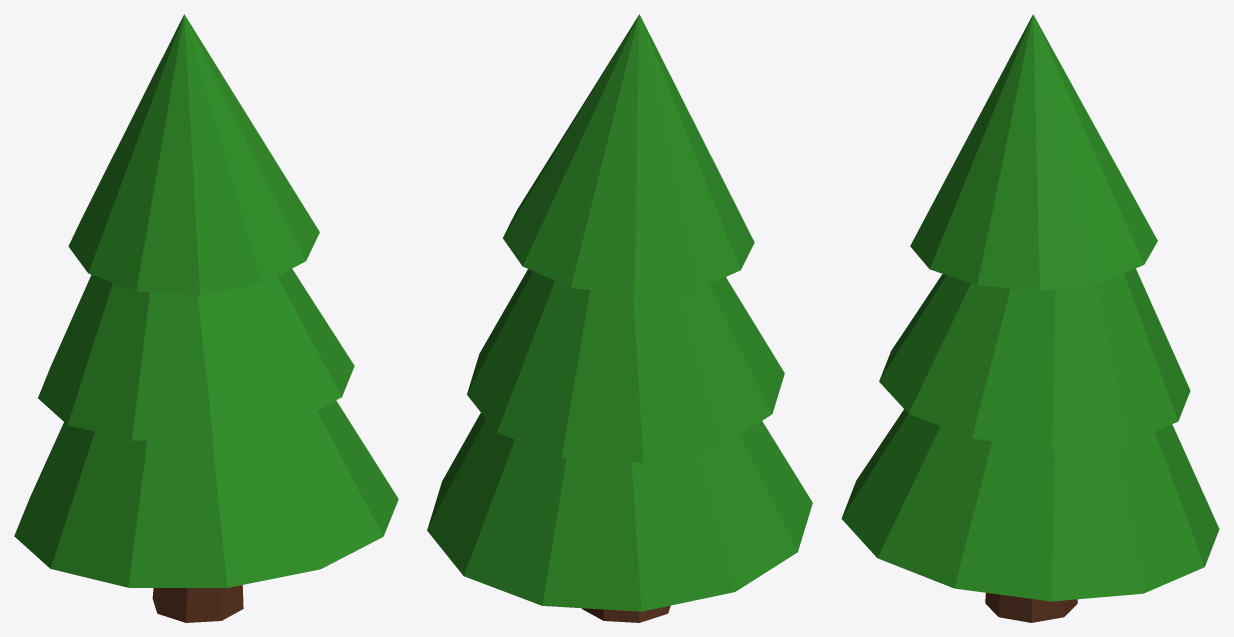
Rendered from Tree_spruce.fbx.
3 views of the same model, side by side, from view 1: azimuth 30°, elevation 25°; view 2: azimuth 150°, elevation 25°; view 3: azimuth 270°, elevation 25° (orthographic).
Parts seen in each view (by area): view 1: Tree; view 2: Tree; view 3: Tree.
Part boxes in pixels (x1,y1,x2,y2): Tree: (14, 14, 398, 622); Tree: (427, 14, 812, 622); Tree: (841, 14, 1219, 622).
Bounding box in the file's own units: 6.1 × 10.35 × 6.08.
